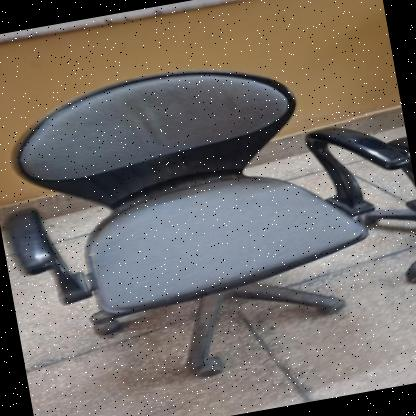chair: (0, 31, 394, 405)
